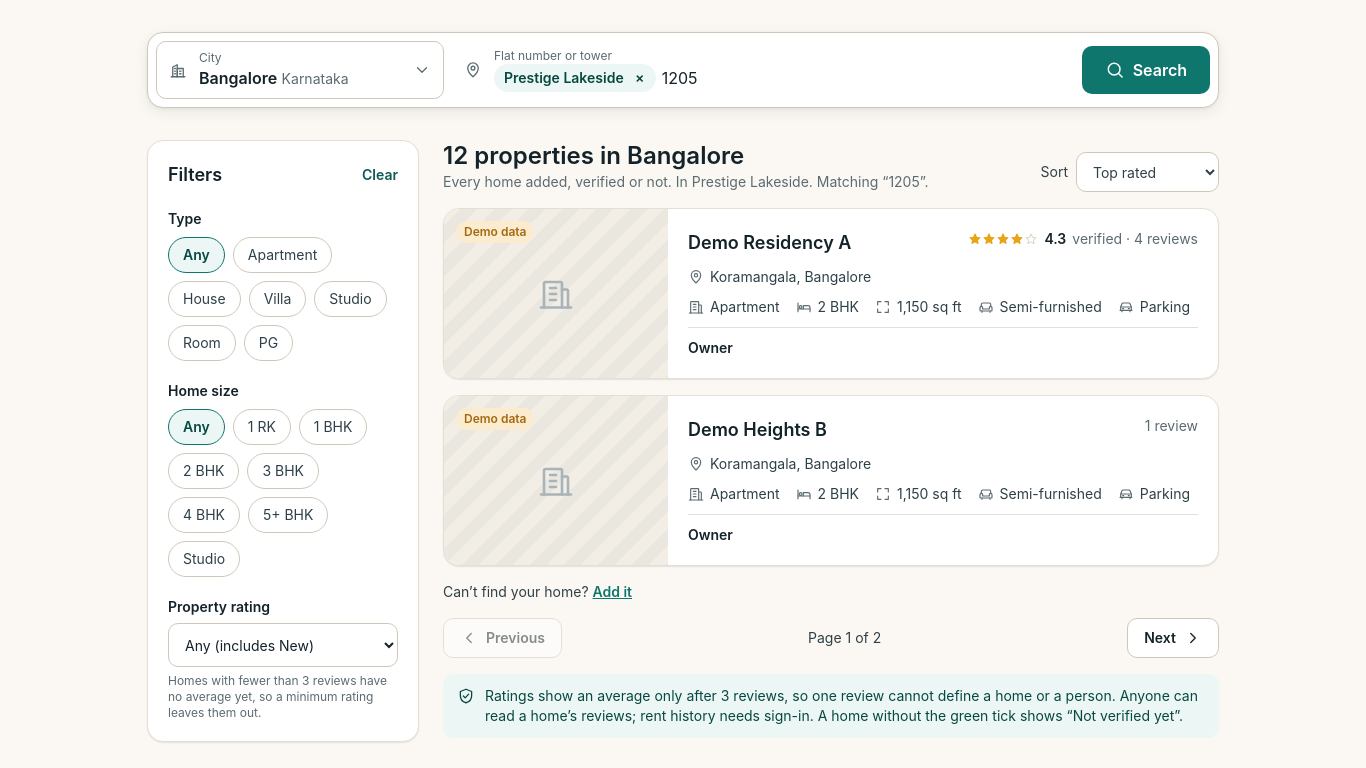
Test case: SearchPage › clears the picked society with the other filters
Expected: the element with test id "society-chip" is shown, [494,64,656,92]
Click the button "Clear" at (380, 175), box [362,165,398,185]
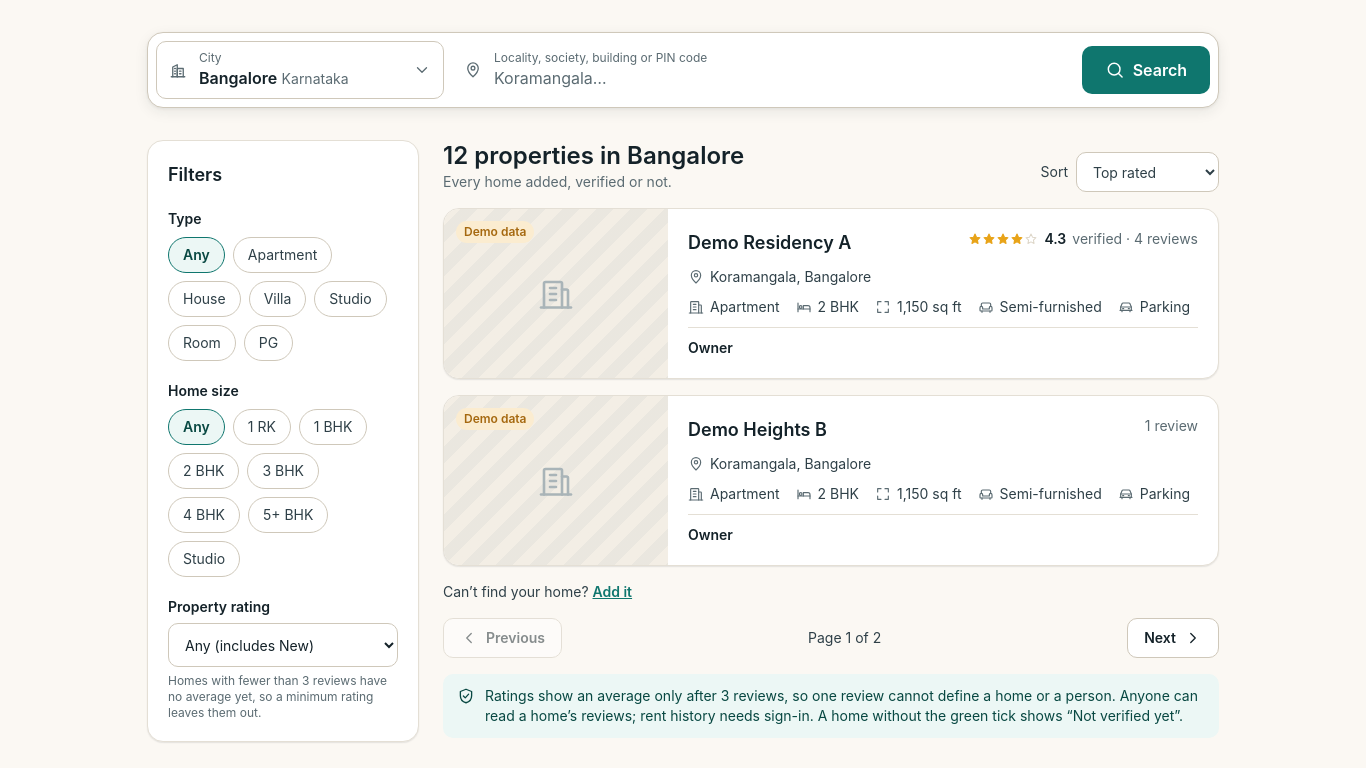
Result: the element with test id "society-chip" is gone
Result: the button "Clear" is gone
